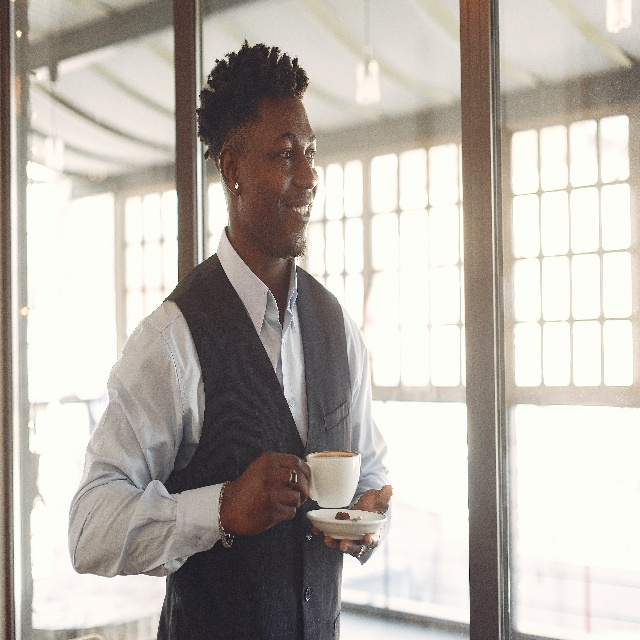Sin_guantes: (235, 450, 310, 534), (310, 479, 392, 555)
